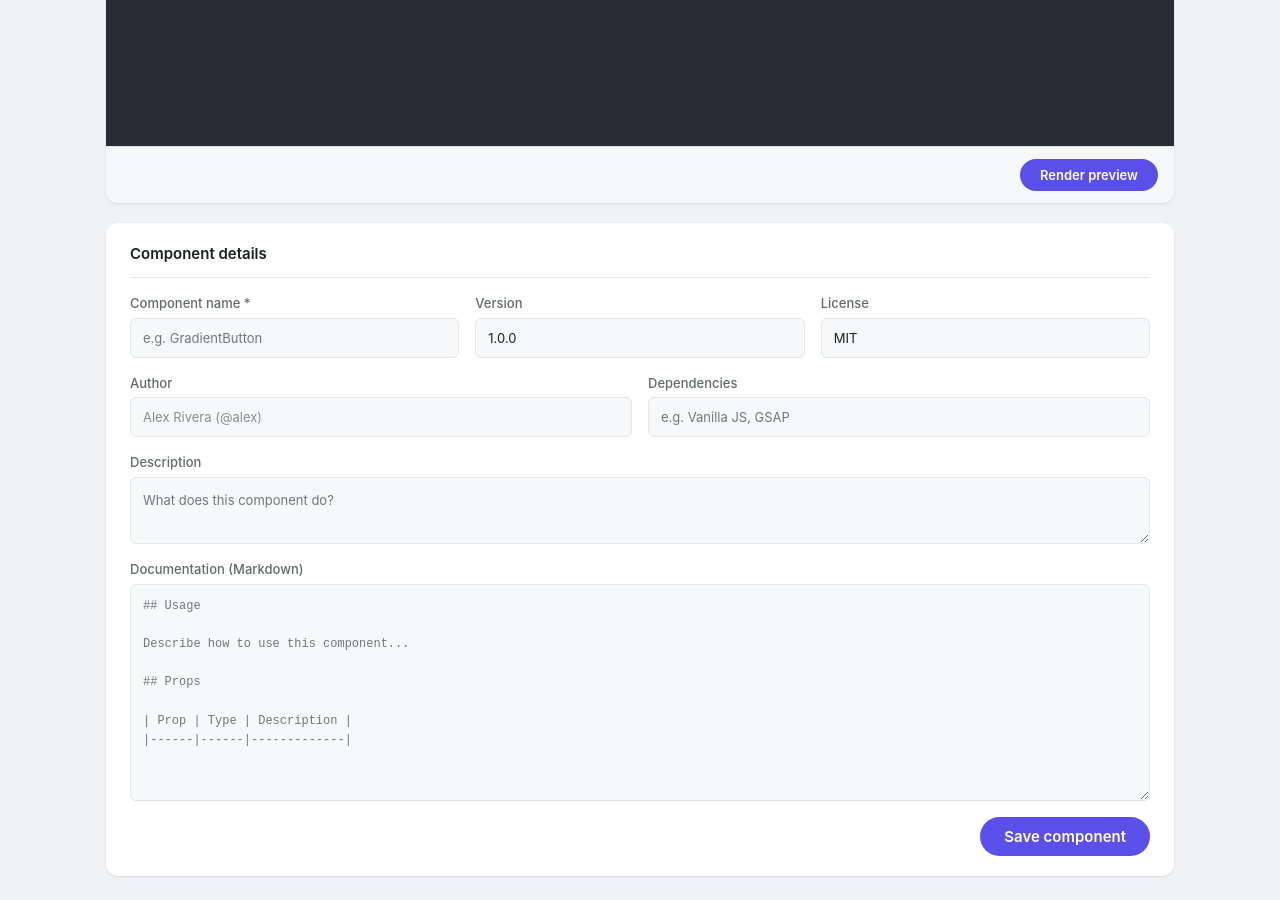
Test case: ComponentEditorPage › Save is blocked with an error until a component name is entered
(page scrolled)
Click the button "Save component": click(1065, 837) 980,818 -> 1150,856
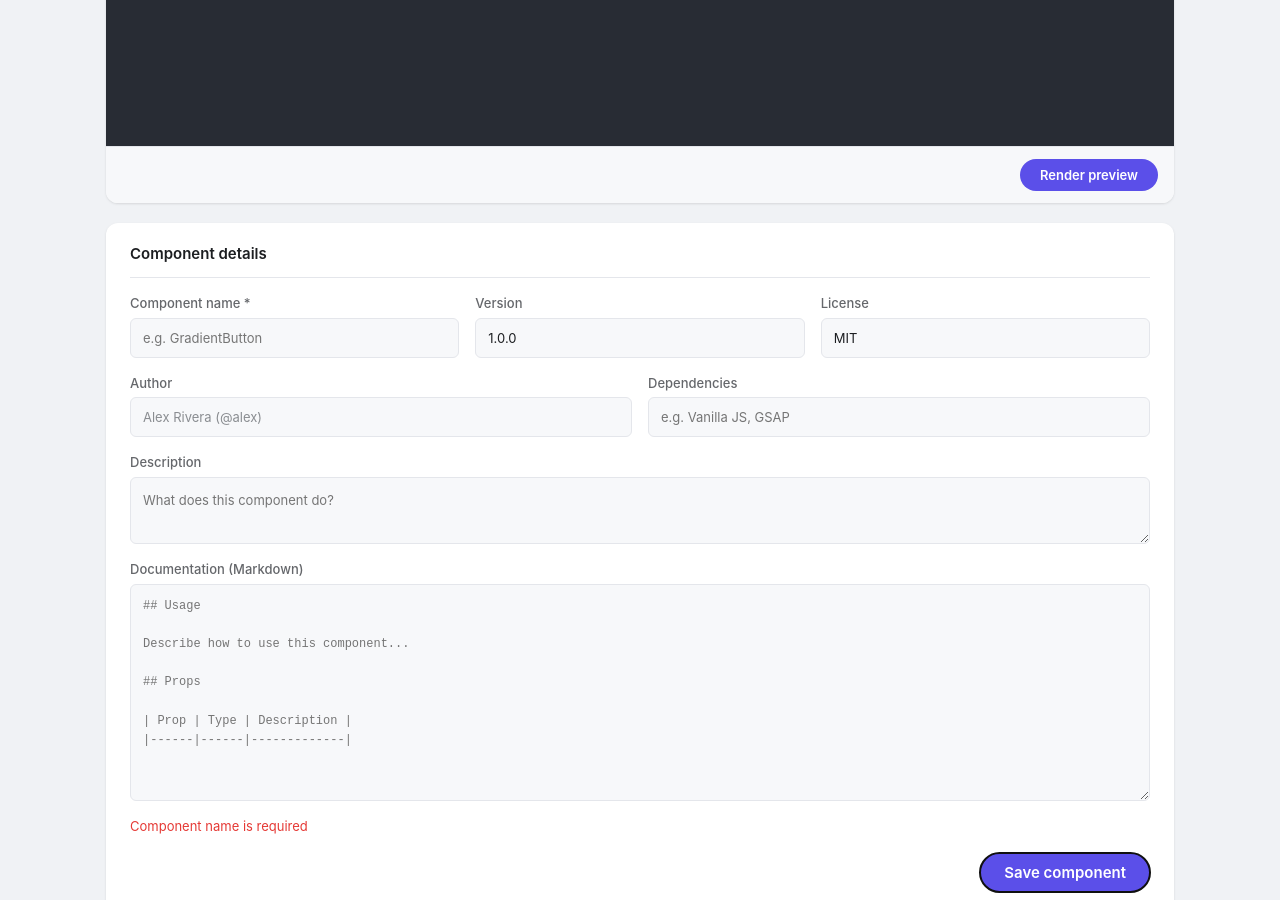
Now the text "Component name is required" is shown, box 130,818 -> 308,834
